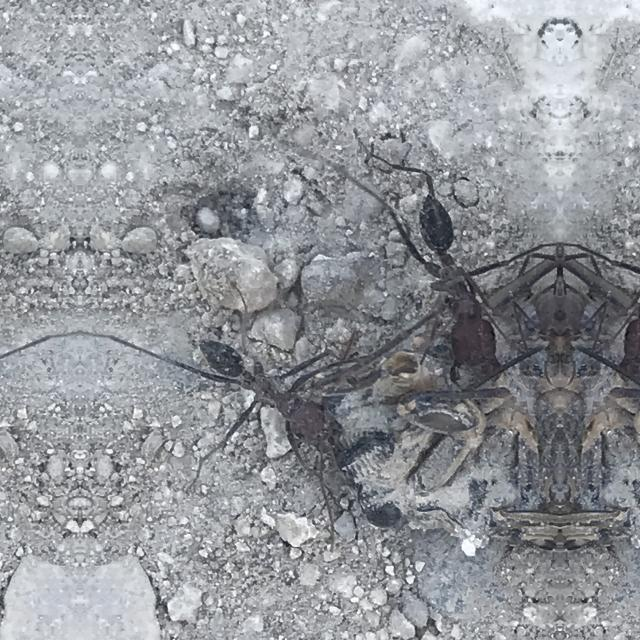Cataglyphis: (186, 326, 370, 452), (402, 180, 510, 394), (610, 180, 640, 394)
